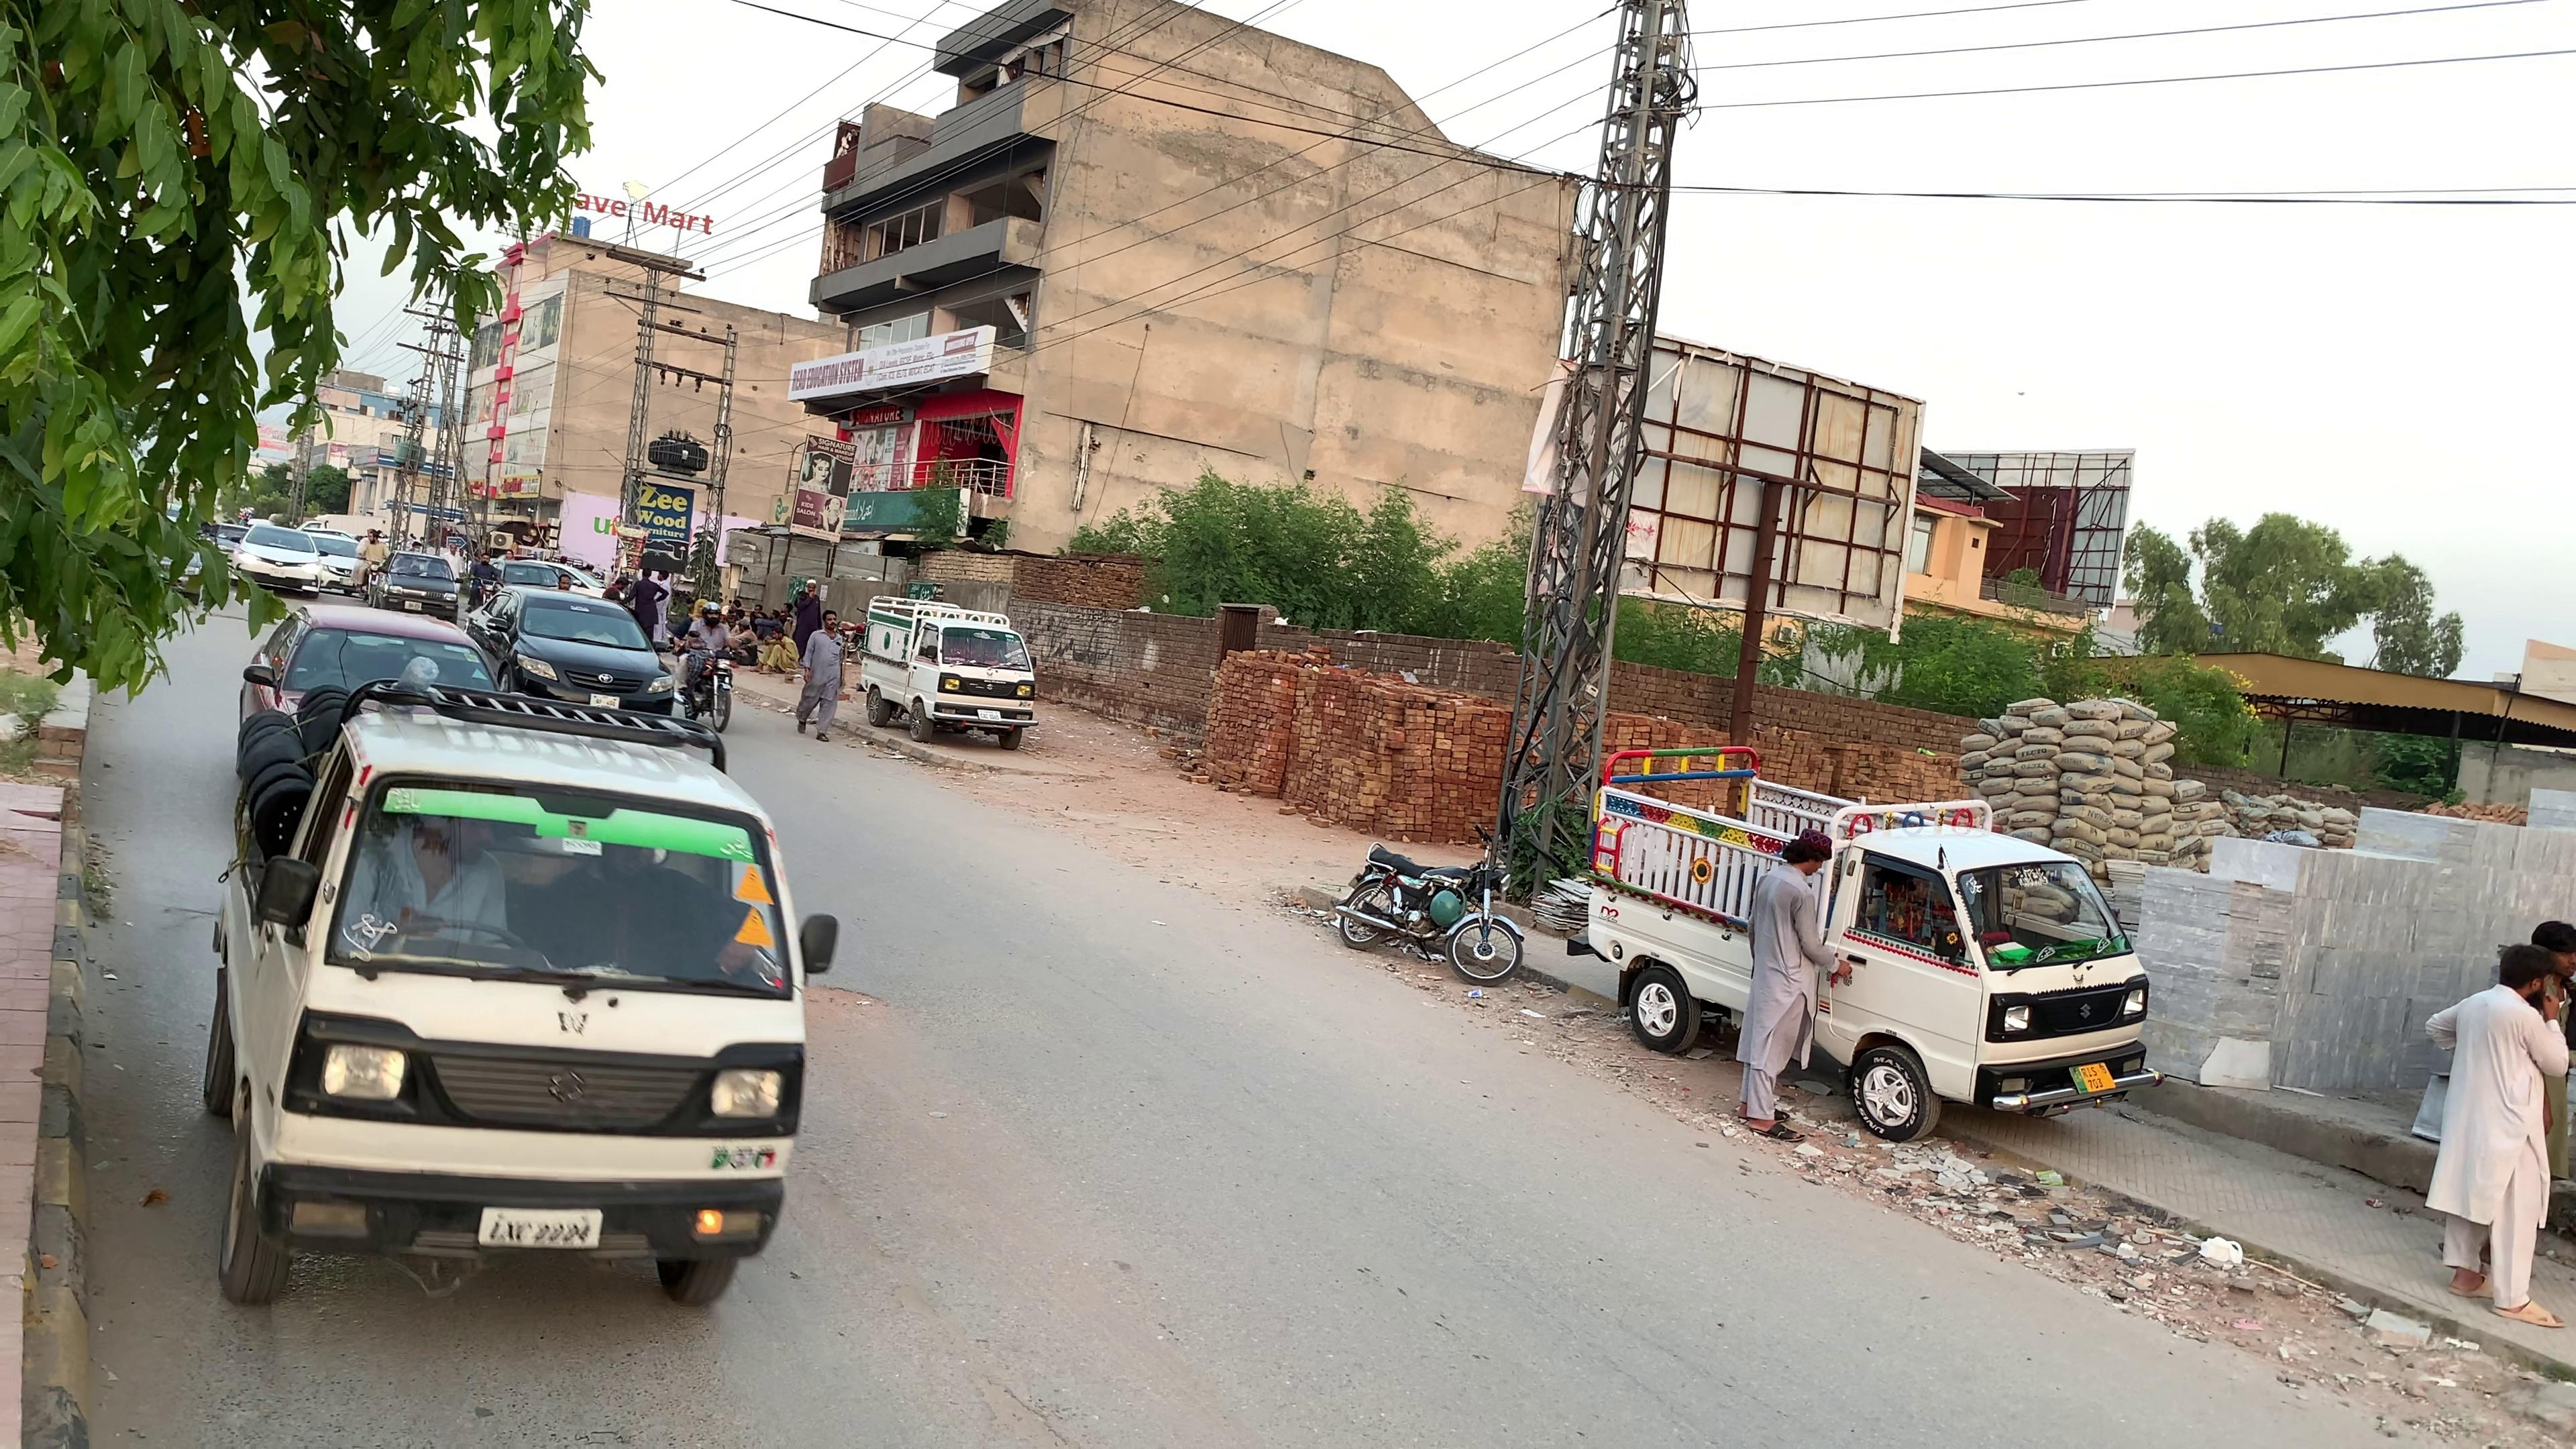windshield: (292, 752, 809, 1007)
